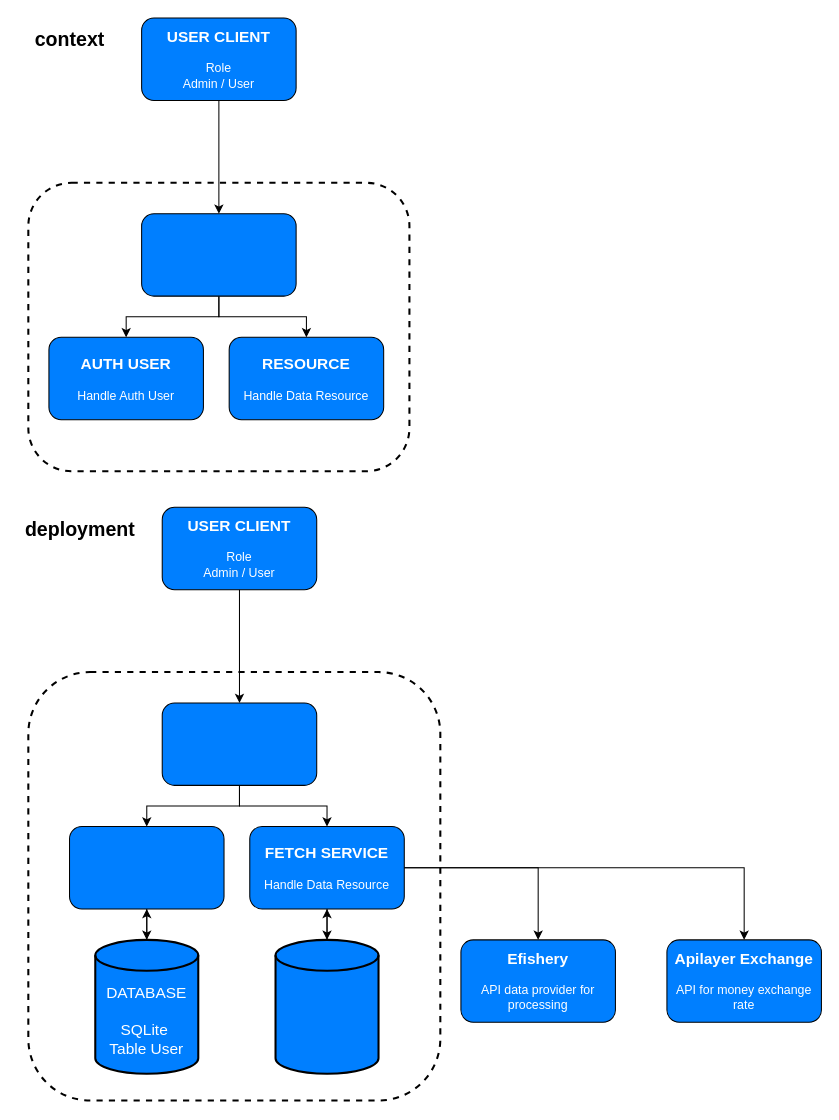
The diagram is 839 pixels wide and 1120 high, and some of its shapes have lost their labels. The shapes that lost their labels are listed below. From the top down, each one's box as (x1, y1, x2, y2) in pixels, then its label:
(141, 213, 296, 296): API GATEWAY proxy
(161, 702, 317, 785): API GATEWAY NGINX proxy
(68, 826, 224, 909): AUTH SERVICE Handle Auth User
(274, 938, 379, 1074): DATABASE SQLite Table Data
